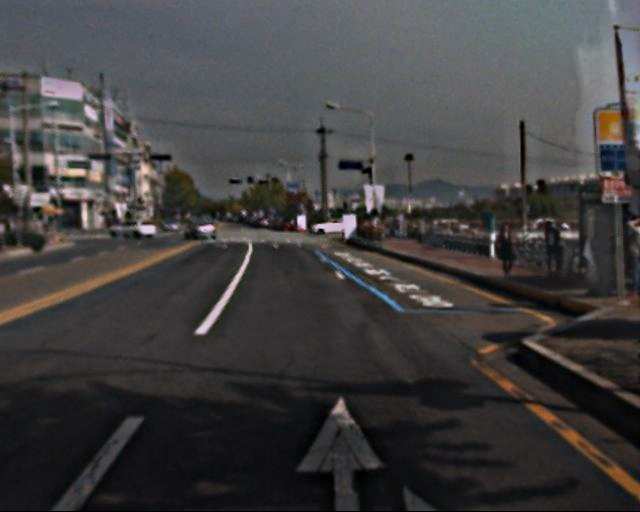person: (538, 219, 564, 282), (494, 223, 517, 280)
